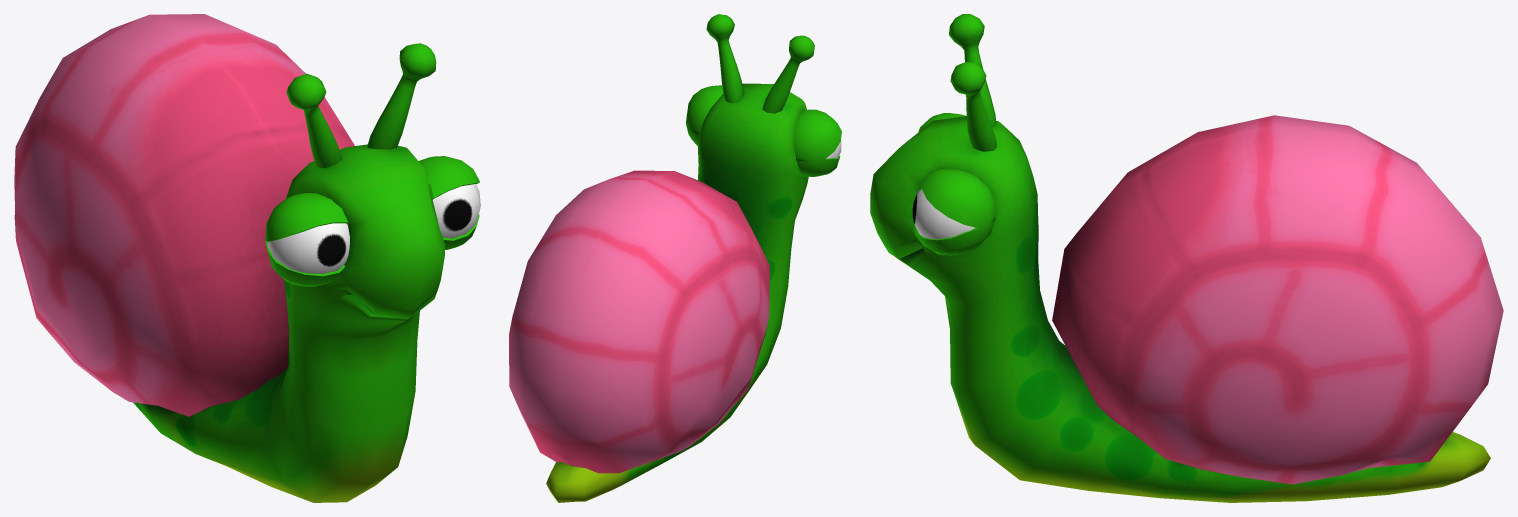
File: snail.glb
The picture shows the model from 3 angles, left to right: view 1: azimuth 30°, elevation 25°; view 2: azimuth 150°, elevation 25°; view 3: azimuth 270°, elevation 25°; orthographic projection. The views are drawn at different scales.
Visible parts, largest first — view 1: Home; view 2: Home; view 3: Home.
Boxes of the visible parts, box(x1,y1,x2,y2) form: Home: box(14, 14, 480, 502); Home: box(509, 14, 841, 502); Home: box(870, 14, 1503, 502).
Size of the model in its own units: 1.17 by 1.99 by 2.53.
Materials: 1 (1 with a texture image).
